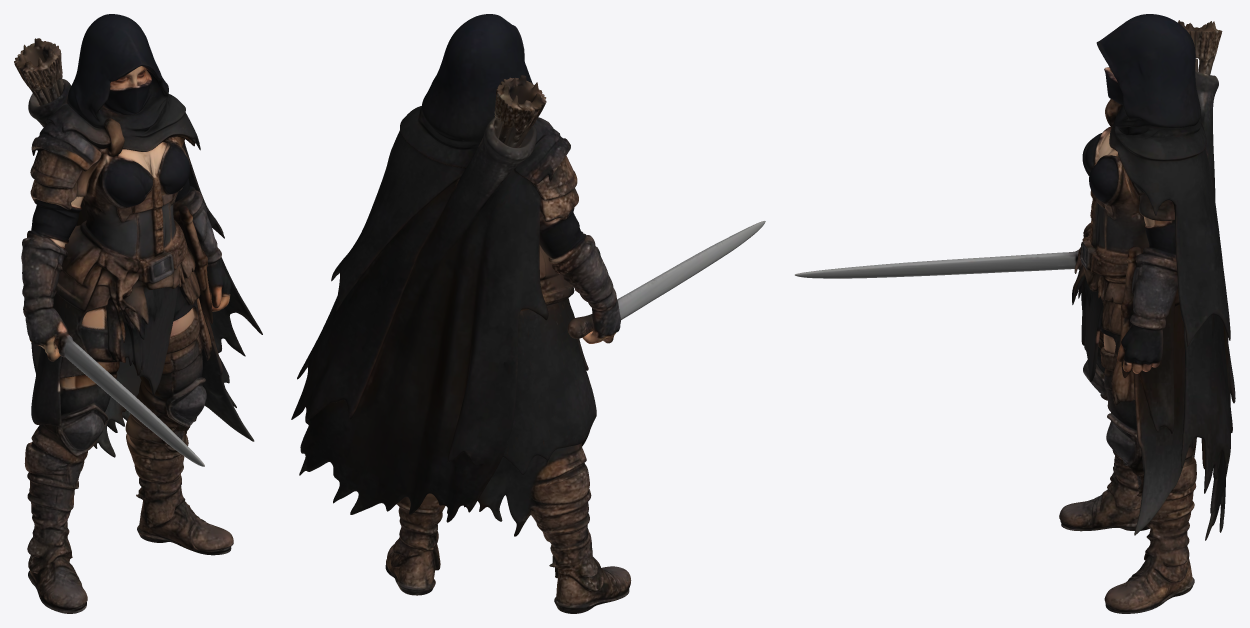
File: rogue_full_female_01.glb
3 views of the same model, side by side, from view 1: azimuth 30°, elevation 25°; view 2: azimuth 150°, elevation 25°; view 3: azimuth 270°, elevation 25° (orthographic). The views are drawn at different scales.
Parts seen in each view (by area): view 1: material; view 2: material; view 3: material.
Part boxes in pixels (x1,y1,x2,y2): material: [14, 14, 262, 613]; material: [291, 14, 765, 613]; material: [795, 14, 1235, 613].
Size of the model in its own units: 0.5307 by 1.03 by 0.7481.
Materials: 1 (1 with a texture image).
